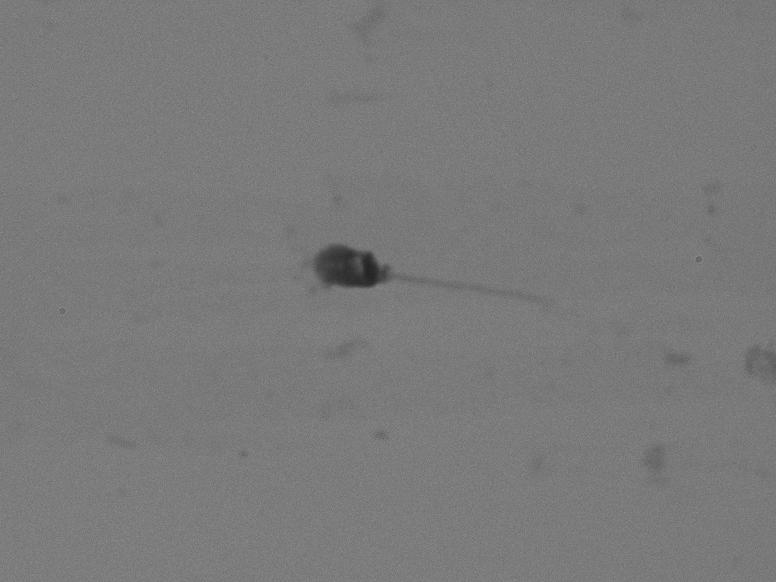Abnormal: (273, 189, 692, 398)
